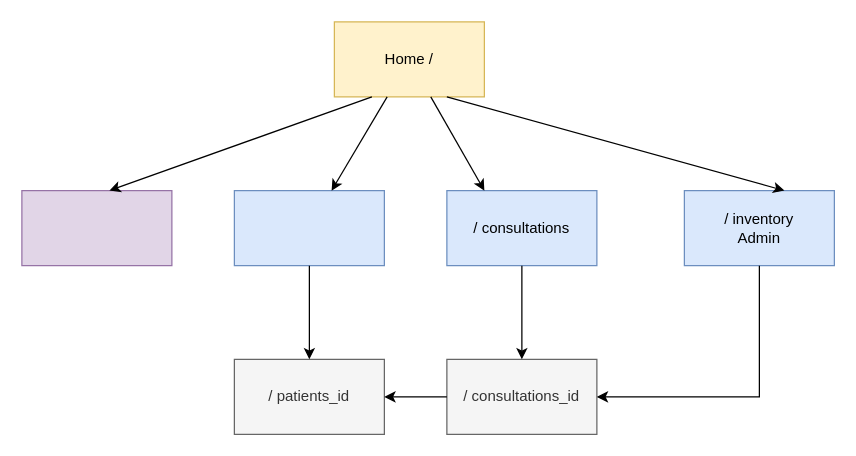
Image size: 856x456. Some labels were removed from this diagram. The shapes that lost their labels are listed below. From the top down, each one's centre as x and y in pixels, then its label:
At (x=96, y=227): "/ barangays Admin".
At (x=308, y=227): "/ patients".
